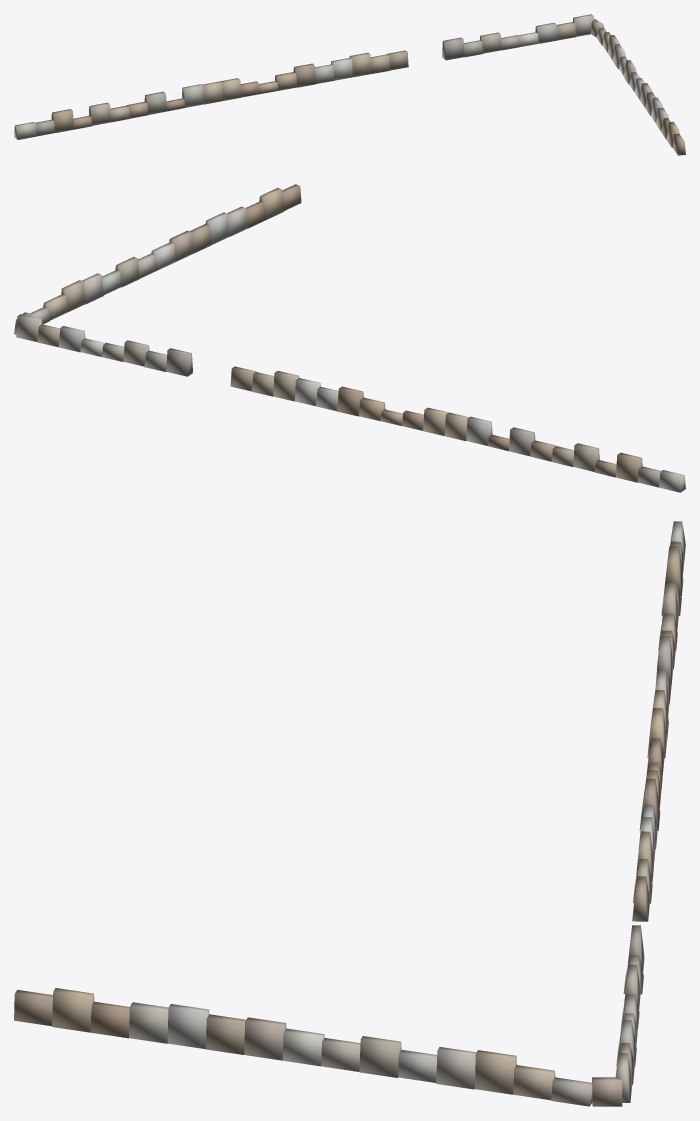
Rendered from farm_4_11_collision.glb.
3 views of the same model, one above another, from view 1: azimuth 30°, elevation 25°; view 2: azimuth 150°, elevation 25°; view 3: azimuth 270°, elevation 25° (orthographic). The views are drawn at different scales.
Parts seen in each view (by area): view 1: geometry_0; view 2: geometry_0; view 3: geometry_0.
Boxes of the visible parts, x1,y1,x2,y2 form: geometry_0: (14,14,685,155); geometry_0: (14,184,685,492); geometry_0: (14,521,685,1106).
Bounding box in the file's own units: 49.03 × 3.03 × 26.51.
